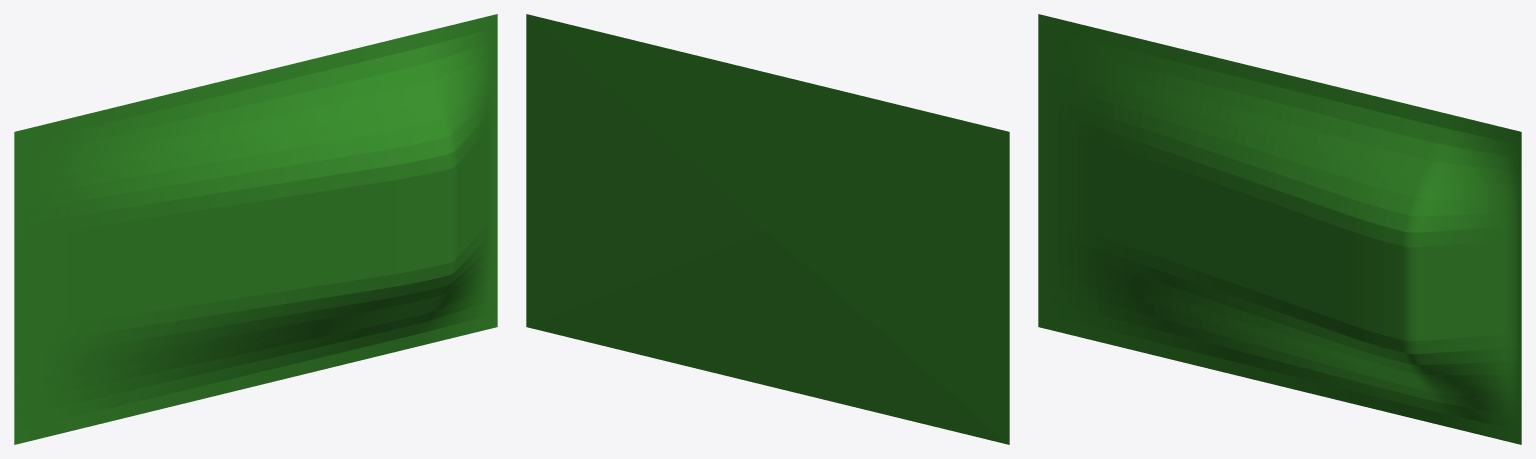
Rendered from hill.obj.
3 views of the same model, side by side, from view 1: azimuth 30°, elevation 25°; view 2: azimuth 150°, elevation 25°; view 3: azimuth 330°, elevation 25° (orthographic).
Size of the model in its own units: 16.15 by 10 by 2.1.
